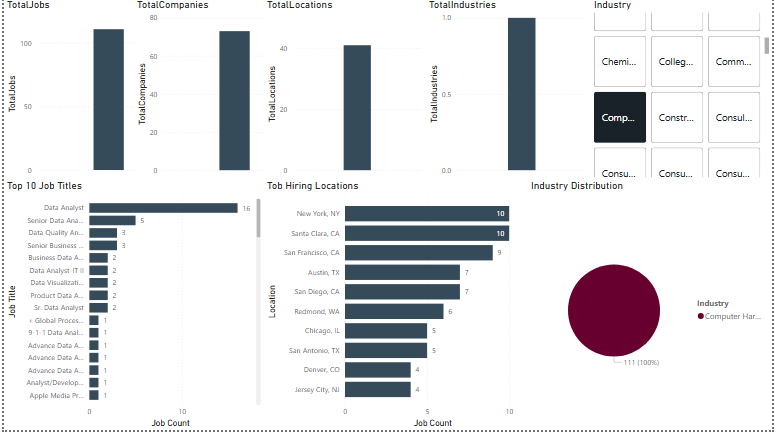

This screenshot's page, from the dashboard's own definition file:
{"tool":"powerbi","page":{"name":"Page 1","canvas":[1280,720],"ordinal":0},"visuals":[{"type":"cardVisual","box":[10,0,280,280],"z":0},{"type":"clusteredColumnChart","fields":{"Y":["Sheet1.TotalJobs"]},"box":[0,0,300.7,300.7],"z":1000},{"type":"clusteredColumnChart","fields":{"Y":["Sheet1.TotalCompanies"]},"box":[216.6,0,294,301.1],"z":2000},{"type":"clusteredColumnChart","fields":{"Y":["Sheet1.TotalLocations"]},"box":[433.1,0,269.4,301.1],"z":3000},{"type":"clusteredColumnChart","fields":{"Y":["Sheet1.TotalIndustries"]},"box":[702.5,0,274.7,301.1],"z":4000},{"type":"clusteredBarChart","title":"Top 10 Job Titles","fields":{"Category":["Sheet1.Job Title"],"Y":["Sheet1.TotalJobs"]},"box":[0,301.1,433.1,419],"z":5000},{"type":"clusteredBarChart","title":"Tob Hiring Locations","fields":{"Category":["Sheet1.Location"],"Y":["Sheet1.TotalJobs"]},"box":[433.1,301.1,440.2,419],"z":6000},{"type":"pieChart","title":"Industry Distribution","fields":{"Category":["Sheet1.Industry"],"Y":["Sheet1.TotalJobs"]},"box":[873.3,301.1,406.7,419],"z":7000}]}

Visuals, with their boxes in screenshot pixels (x1, y1, x2, y2), scaled from the page's 1280x720 canvas onto the 779x437 screenshot:
cardVisual: bbox(6, 0, 176, 170)
clusteredColumnChart - Sheet1.TotalJobs: bbox(0, 0, 183, 183)
clusteredColumnChart - Sheet1.TotalCompanies: bbox(132, 0, 311, 183)
clusteredColumnChart - Sheet1.TotalLocations: bbox(264, 0, 428, 183)
clusteredColumnChart - Sheet1.TotalIndustries: bbox(428, 0, 595, 183)
"Top 10 Job Titles" clusteredBarChart: bbox(0, 183, 264, 436)
"Tob Hiring Locations" clusteredBarChart: bbox(264, 183, 531, 436)
"Industry Distribution" pieChart: bbox(531, 183, 778, 436)
